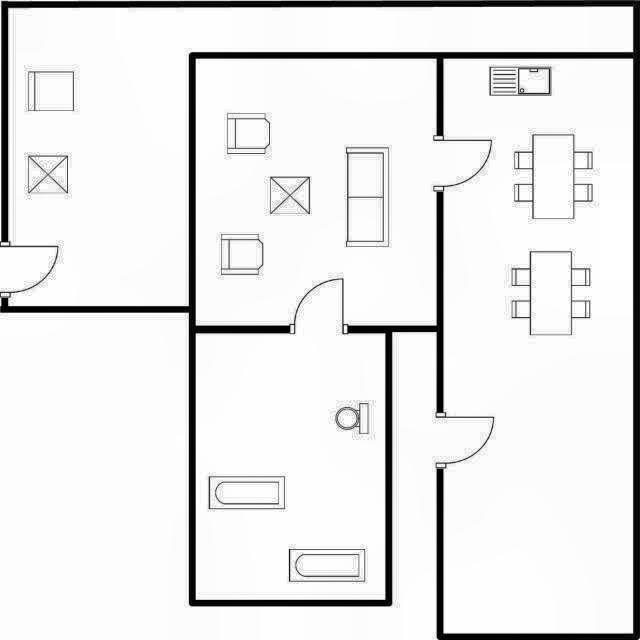room: (8, 6, 633, 306), (443, 59, 633, 634), (196, 59, 437, 326), (196, 333, 385, 600)
